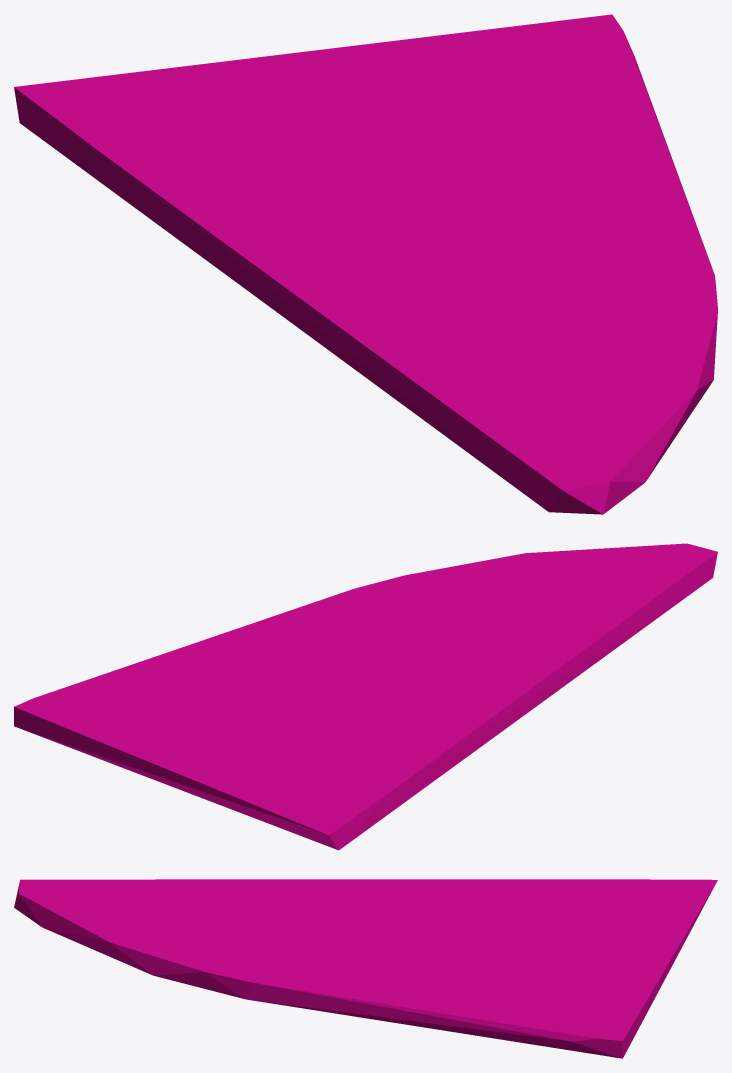
Rendered from model0_convex_piece_027.obj.
3 views of the same model, one above another, from view 1: azimuth 30°, elevation 25°; view 2: azimuth 150°, elevation 25°; view 3: azimuth 270°, elevation 25° (orthographic). The views are drawn at different scales.
Size of the model in its own units: 0.052 by 0.00264 by 0.0949.
